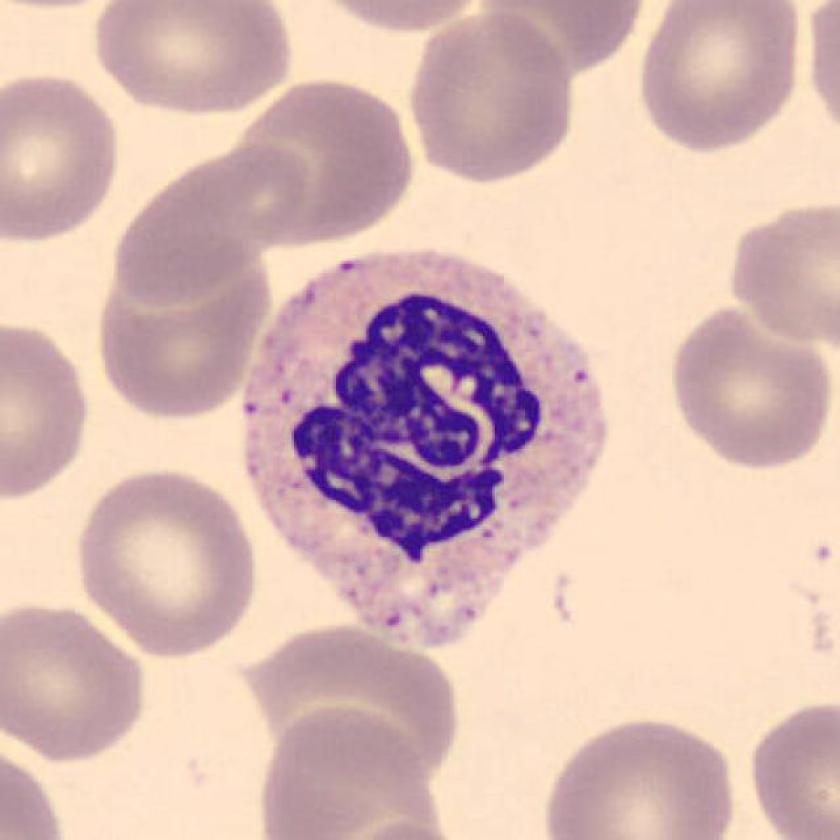neutrophil: (245, 252, 605, 648)
